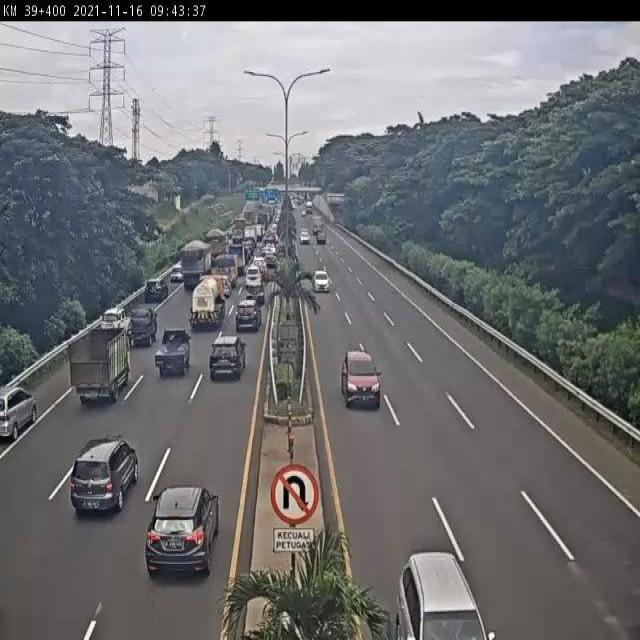car: (142, 482, 224, 586), (397, 548, 488, 640), (68, 436, 142, 523), (337, 347, 384, 408), (0, 384, 47, 444), (150, 328, 193, 383), (205, 332, 248, 384), (125, 303, 159, 349), (233, 300, 262, 337), (141, 278, 170, 306), (244, 279, 267, 305), (244, 264, 262, 291), (213, 274, 233, 298), (169, 265, 187, 288), (312, 270, 329, 294), (252, 252, 270, 273), (263, 251, 279, 268), (316, 231, 326, 245), (299, 232, 309, 245)
small truck: (66, 323, 131, 409), (214, 252, 237, 284), (226, 244, 246, 276)
truck-m-: (190, 272, 227, 335), (175, 240, 212, 291), (203, 227, 229, 261)
